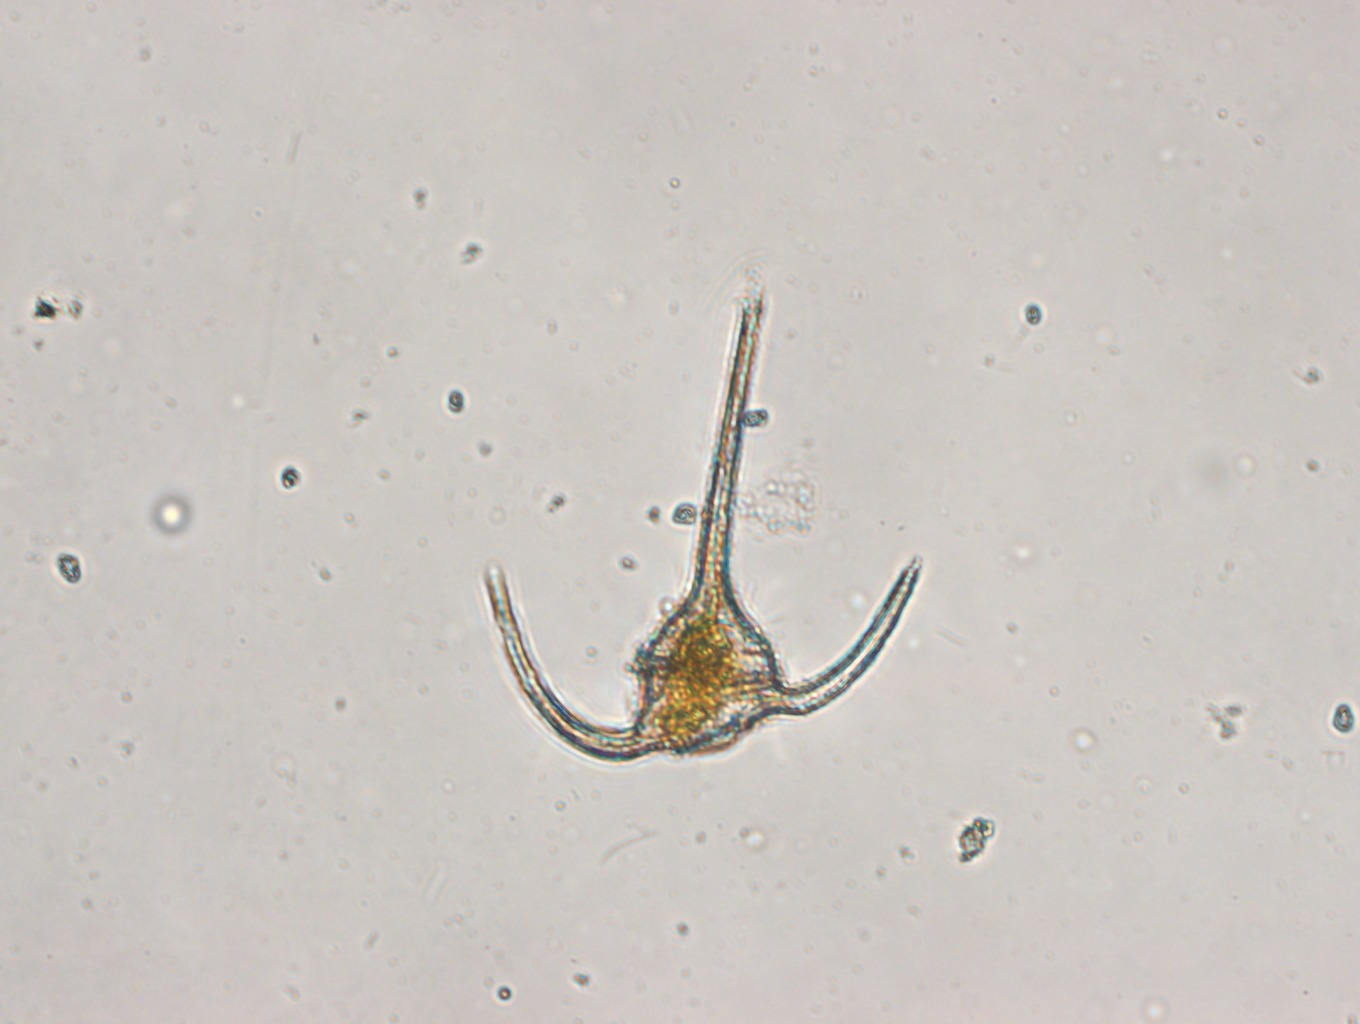ceratium trichoceros: (464, 279, 931, 774)
